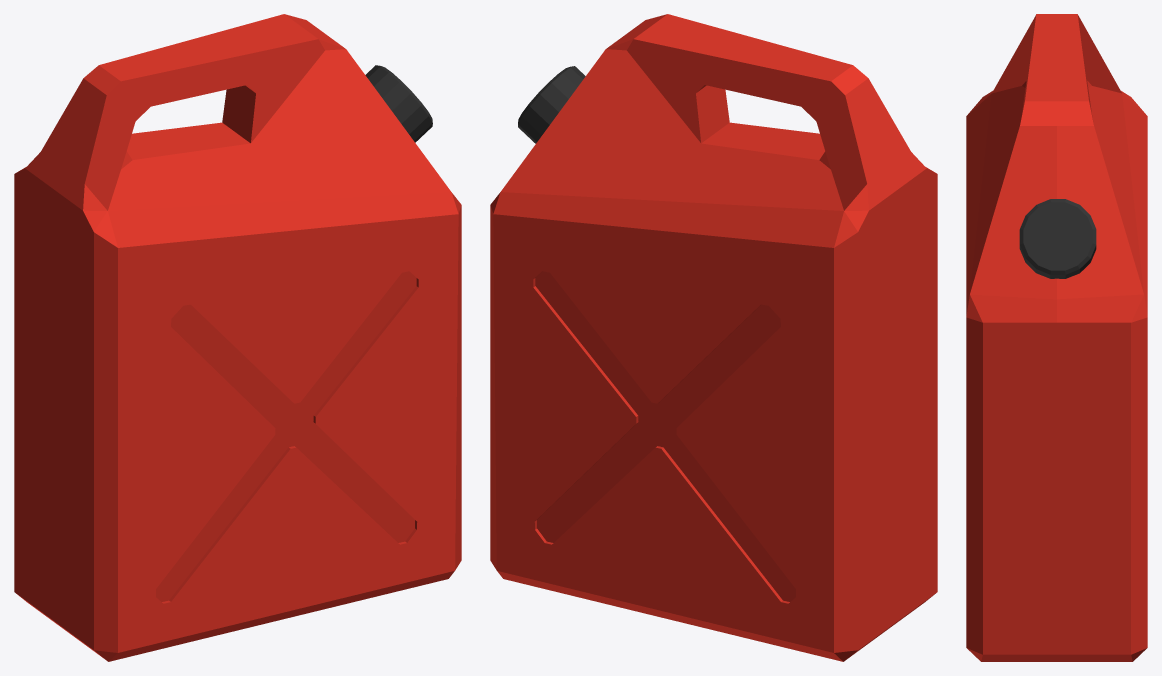
File: Fuel Can.fbx
3 renders of one model, left to right at view 1: azimuth 30°, elevation 25°; view 2: azimuth 150°, elevation 25°; view 3: azimuth 270°, elevation 25°, orthographic. The views are drawn at different scales.
Visible parts, largest first — view 1: Fuel Can; view 2: Fuel Can; view 3: Fuel Can.
Boxes of the visible parts, x1,y1,x2,y2 form: Fuel Can: [14, 14, 461, 661]; Fuel Can: [490, 14, 937, 661]; Fuel Can: [966, 14, 1147, 661].
Size of the model in its own units: 120 by 170 by 54.58.
